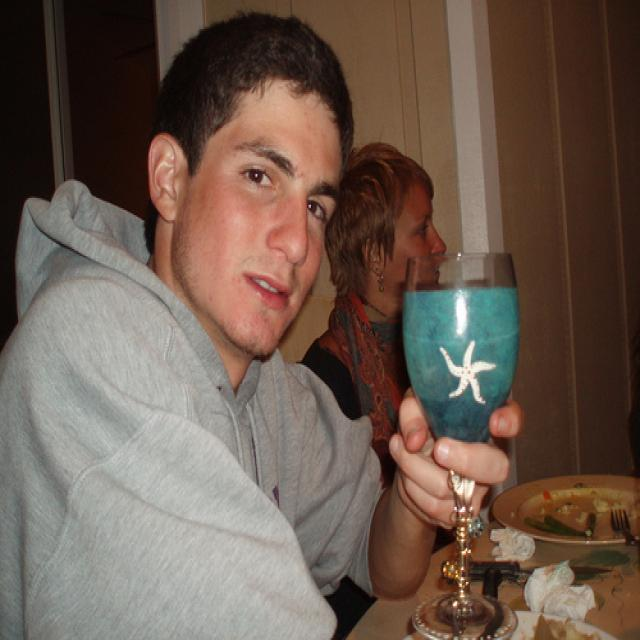diningtable: (346, 474, 639, 639)
person: (3, 13, 525, 639), (298, 143, 448, 639)
